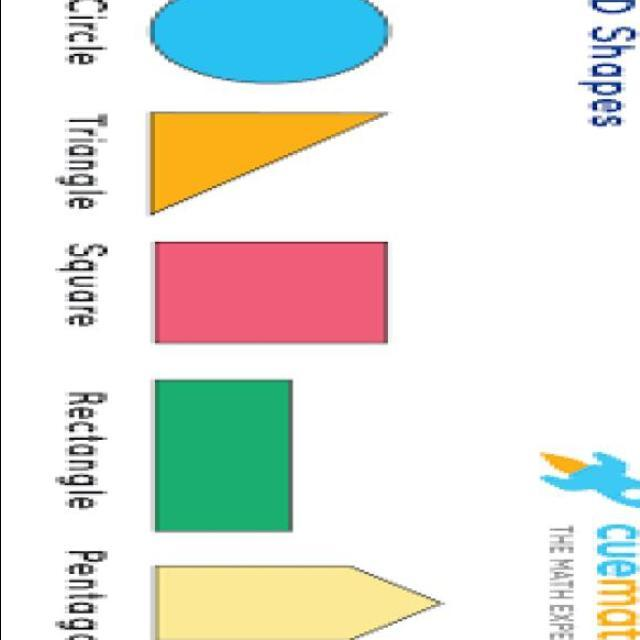circle: (134, 0, 408, 86)
square: (120, 370, 367, 553), (144, 225, 414, 366)
triangle: (133, 93, 434, 224)
